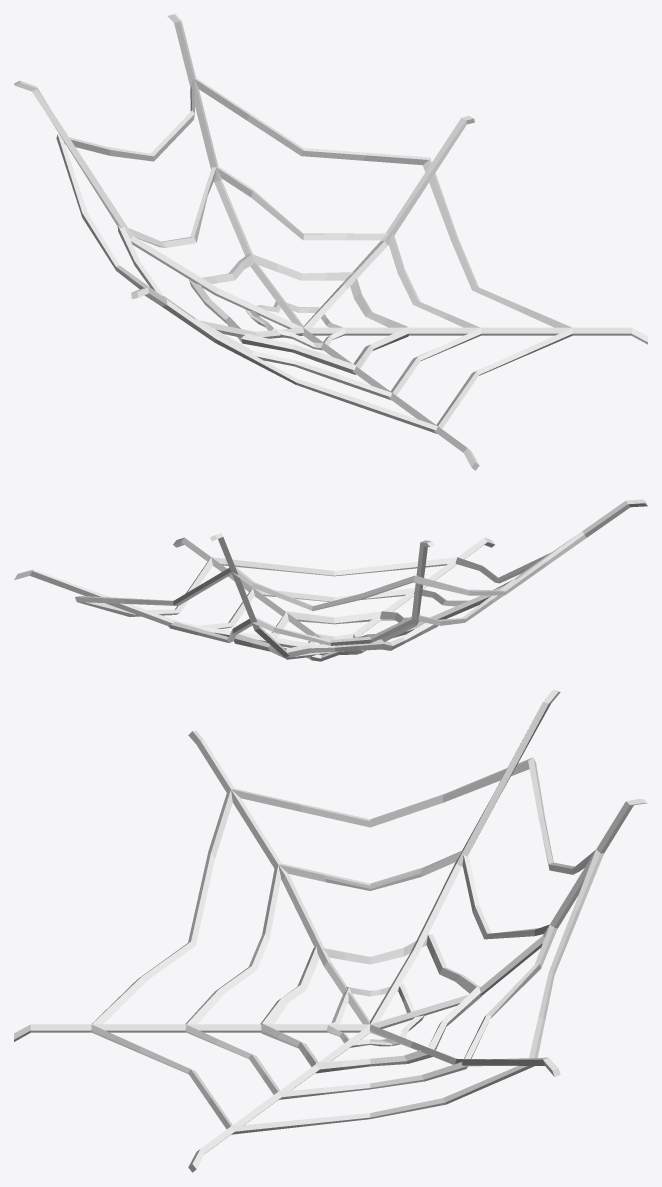
The model's file is SpiderWebCorner.fbx.
3 views of the same model, one above another, from view 1: azimuth 30°, elevation 25°; view 2: azimuth 150°, elevation 25°; view 3: azimuth 270°, elevation 25° (orthographic). The views are drawn at different scales.
Visible parts, largest first — view 1: SpiderWebCorner; view 2: SpiderWebCorner; view 3: SpiderWebCorner.
Boxes of the visible parts, x1,y1,x2,y2 form: SpiderWebCorner: (14,14,647,470); SpiderWebCorner: (14,499,647,661); SpiderWebCorner: (14,690,647,1172).
Size of the model in its own units: 81.24 by 36.74 by 83.19.
Materials: 1 (1 with a texture image).
